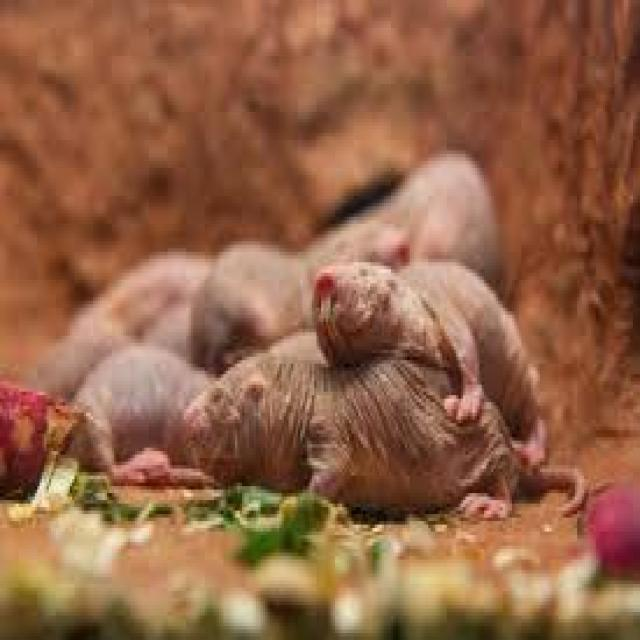rat: (33, 147, 584, 517), (179, 329, 587, 521), (184, 147, 503, 371), (310, 255, 544, 465)
